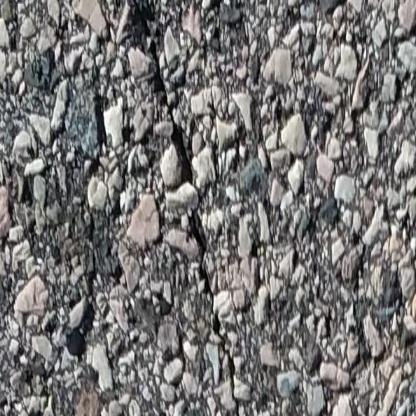Cracks: (104, 0, 306, 416)
